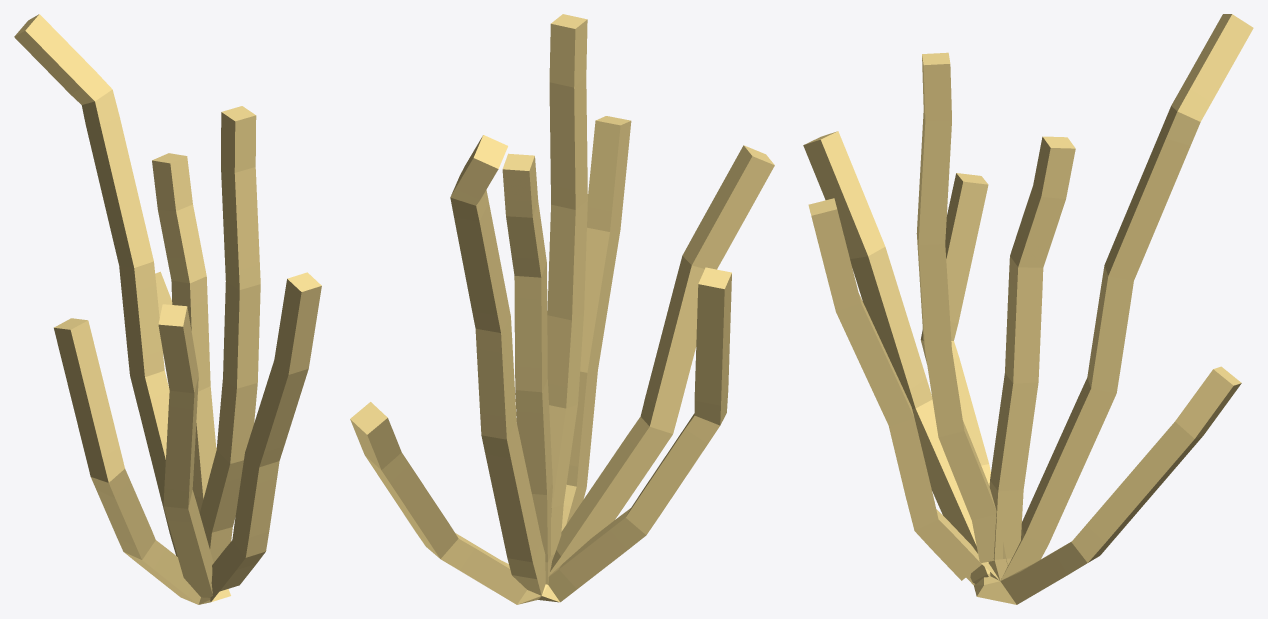
Rendered from grass1.glb.
The picture shows the model from 3 angles, left to right: view 1: azimuth 30°, elevation 25°; view 2: azimuth 150°, elevation 25°; view 3: azimuth 270°, elevation 25°; orthographic projection. The views are drawn at different scales.
Visible parts, largest first — view 1: Root; view 2: Root; view 3: Root.
Part boxes in pixels (x1,y1,x2,y2): Root: [14, 14, 321, 604]; Root: [350, 14, 774, 604]; Root: [803, 14, 1253, 604].
Bounding box in the file's own units: 0.2504 × 0.5412 × 0.3989.
